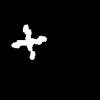single_crochet: (12, 25, 46, 59)
